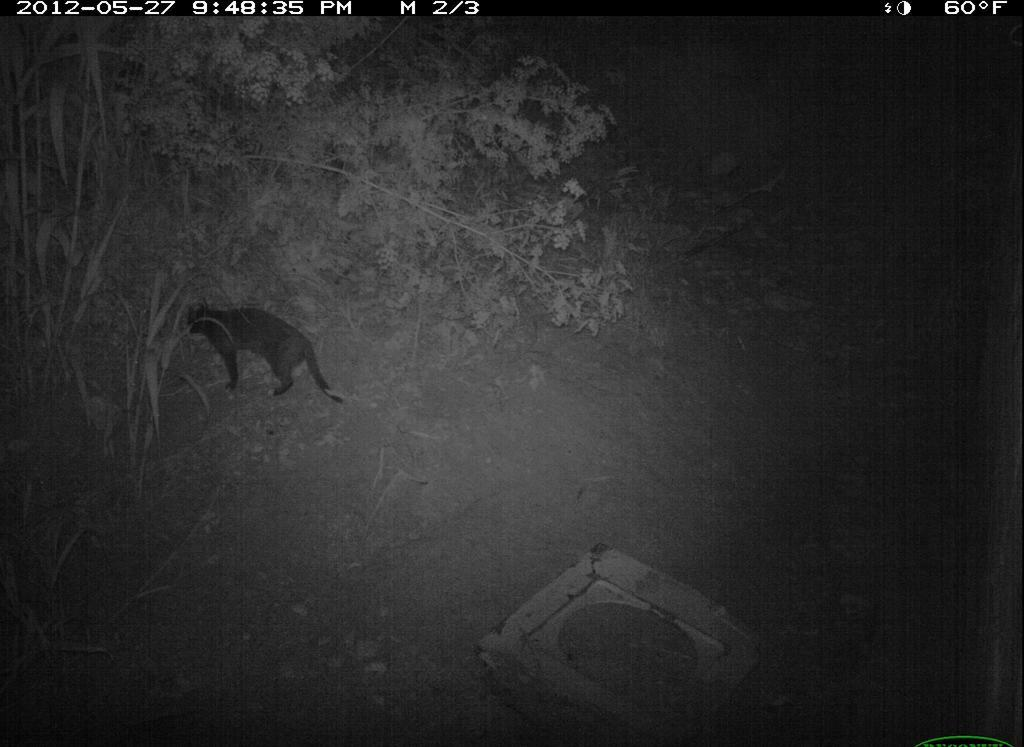cat: (175, 287, 353, 414)
